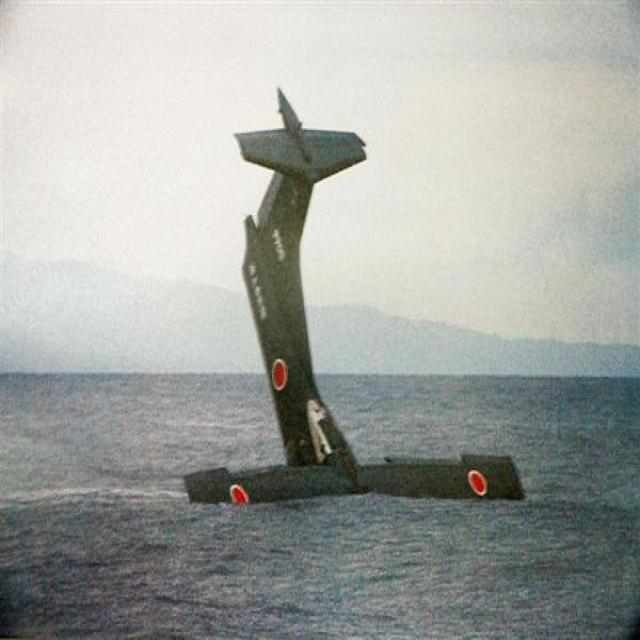MIL_Plane: (181, 85, 526, 505)
